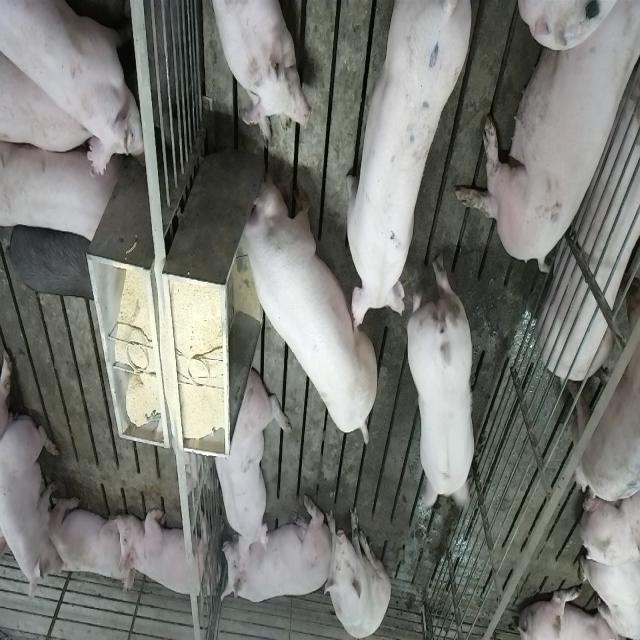Feeding: (234, 168, 373, 447)
Lateral_lying: (454, 0, 636, 272), (538, 59, 640, 379)
Sitting: (324, 498, 391, 638)
Standing: (342, 4, 476, 330), (2, 0, 142, 181), (406, 248, 478, 507), (569, 253, 640, 502), (3, 126, 125, 242), (2, 222, 100, 306)
Sternal_lying: (210, 366, 284, 554), (204, 0, 306, 136), (222, 504, 328, 610), (2, 412, 60, 603), (118, 504, 214, 604), (47, 494, 129, 588)
